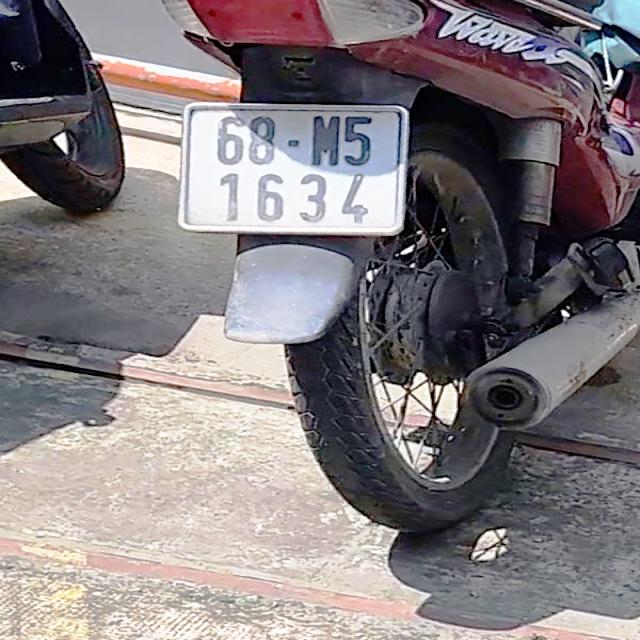license_plate: (182, 104, 404, 230)
